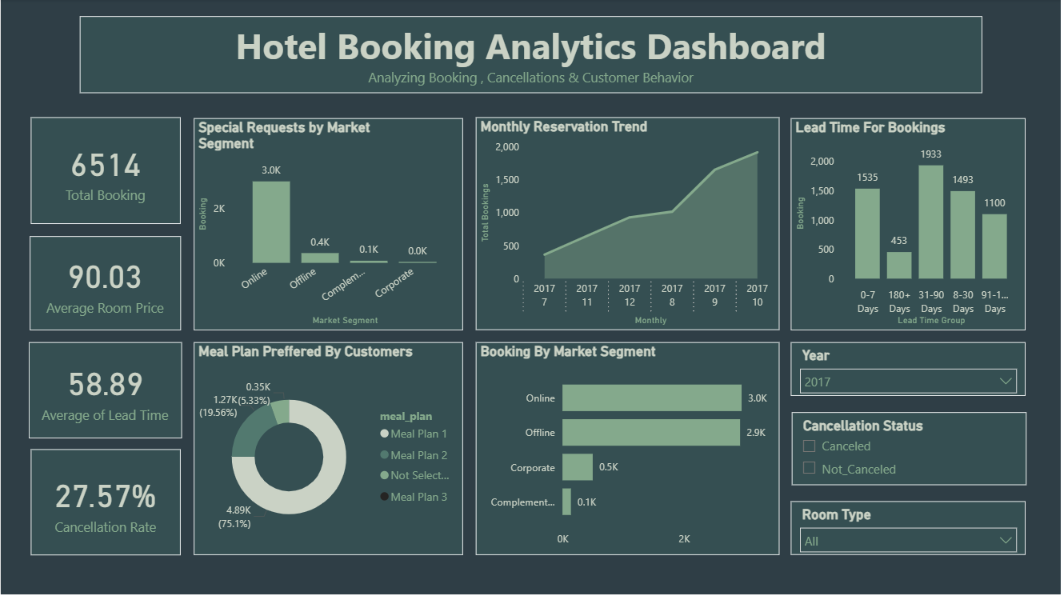

Layout of this report page (visuals, bound fields, positions):
{"tool":"powerbi","page":{"name":"Hotel_Analysis","canvas":[1280,720],"ordinal":0},"visuals":[{"type":"textbox","box":[95,20,1088.8,92.5],"z":0},{"type":"card","fields":{"Values":["CountNonNull(Hotel.ID)"]},"box":[36.2,142.4,181,129.1],"z":1000},{"type":"card","fields":{"Values":["Avg(Hotel.avg_room_price)"]},"box":[35,285.9,182.2,113.4],"z":2000},{"type":"card","fields":{"Values":["Avg(Hotel.lead_time)"]},"box":[33.8,413.8,184.6,115.8],"z":3000},{"type":"card","fields":{"Values":["Avg(Hotel.Cancellation Rate)"]},"box":[36.2,542.9,181,127.9],"z":4000},{"type":"clusteredBarChart","title":"Booking By Market Segment","fields":{"Category":["Hotel.market_segment"],"Y":["CountNonNull(Hotel.ID)"]},"box":[573.1,413.8,366.8,257],"z":5000},{"type":"lineChart","title":"Monthly Reservation Trend","fields":{"Y":["CountNonNull(Hotel.ID)"],"Category":["Hotel.month","Hotel.year"]},"box":[573.1,142.4,366.8,257],"z":6000},{"type":"donutChart","title":"Meal Plan Preffered By Customers","fields":{"Y":["CountNonNull(Hotel.ID)"],"Category":["Hotel.meal_plan"]},"box":[232.8,413.8,324.5,257],"z":7000},{"type":"clusteredColumnChart","title":"Lead Time For Bookings","fields":{"Category":["Hotel.Lead Time Group"],"Y":["CountNonNull(Hotel.ID)"]},"box":[953.1,143.6,283.5,255.8],"z":8000},{"type":"slicer","fields":{"Values":["Hotel.status"]},"box":[954.3,498.3,283.5,88.1],"z":9000},{"type":"slicer","fields":{"Values":["Hotel.room_type"]},"box":[953.1,605.6,283.5,65.1],"z":10000},{"type":"slicer","fields":{"Values":["Hotel.year"]},"box":[953.1,413.8,283.5,65.1],"z":11000},{"type":"clusteredColumnChart","title":"Special Requests by Market Segment","fields":{"Category":["Hotel.market_segment"],"Y":["Sum(Hotel.special_requests)"]},"box":[232.8,143.6,324.5,255.8],"z":12001}]}

Visuals, with their boxes in screenshot pixels (x1, y1, x2, y2), scaled from the page's 1280x720 canvas onto the 1061x595 screenshot:
textbox: left=79, top=17, right=981, bottom=93
card - CountNonNull(Hotel.ID): left=30, top=118, right=180, bottom=224
card - Avg(Hotel.avg_room_price): left=29, top=236, right=180, bottom=330
card - Avg(Hotel.lead_time): left=28, top=342, right=181, bottom=438
card - Avg(Hotel.Cancellation Rate): left=30, top=449, right=180, bottom=554
"Booking By Market Segment" clusteredBarChart: left=475, top=342, right=779, bottom=554
"Monthly Reservation Trend" lineChart: left=475, top=118, right=779, bottom=330
"Meal Plan Preffered By Customers" donutChart: left=193, top=342, right=462, bottom=554
"Lead Time For Bookings" clusteredColumnChart: left=790, top=119, right=1025, bottom=330
slicer - Hotel.status: left=791, top=412, right=1026, bottom=485
slicer - Hotel.room_type: left=790, top=500, right=1025, bottom=554
slicer - Hotel.year: left=790, top=342, right=1025, bottom=396
"Special Requests by Market Segment" clusteredColumnChart: left=193, top=119, right=462, bottom=330
